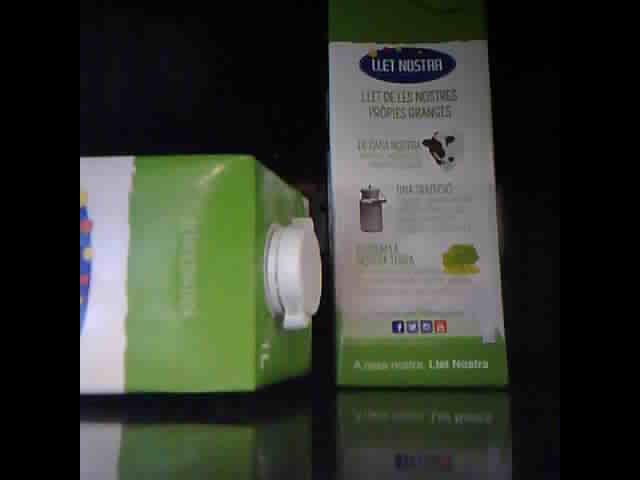leche: (334, 7, 506, 389), (80, 155, 324, 396)
